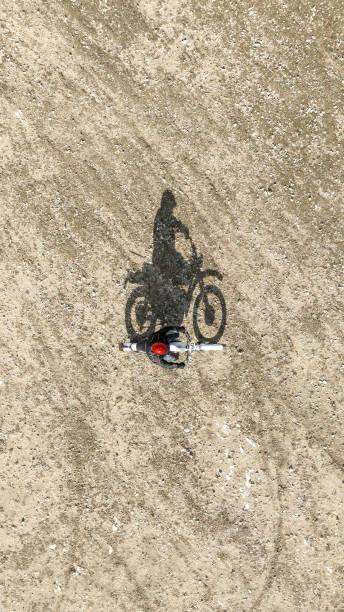Motorcycle: (112, 322, 230, 372)
